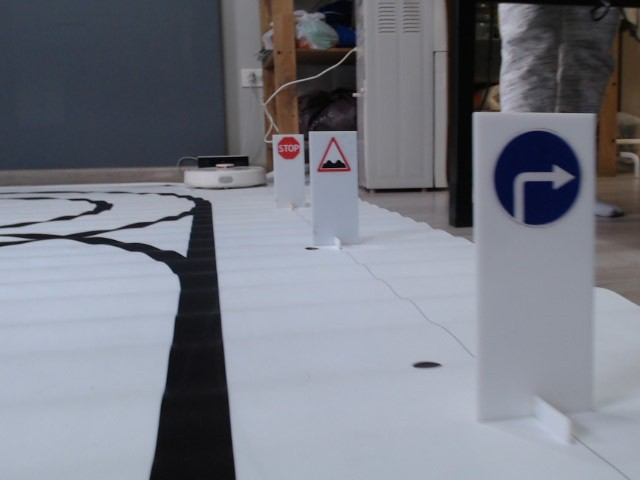Nerov: (315, 137, 350, 174)
Right: (492, 133, 580, 225)
Stop: (275, 137, 300, 159)
